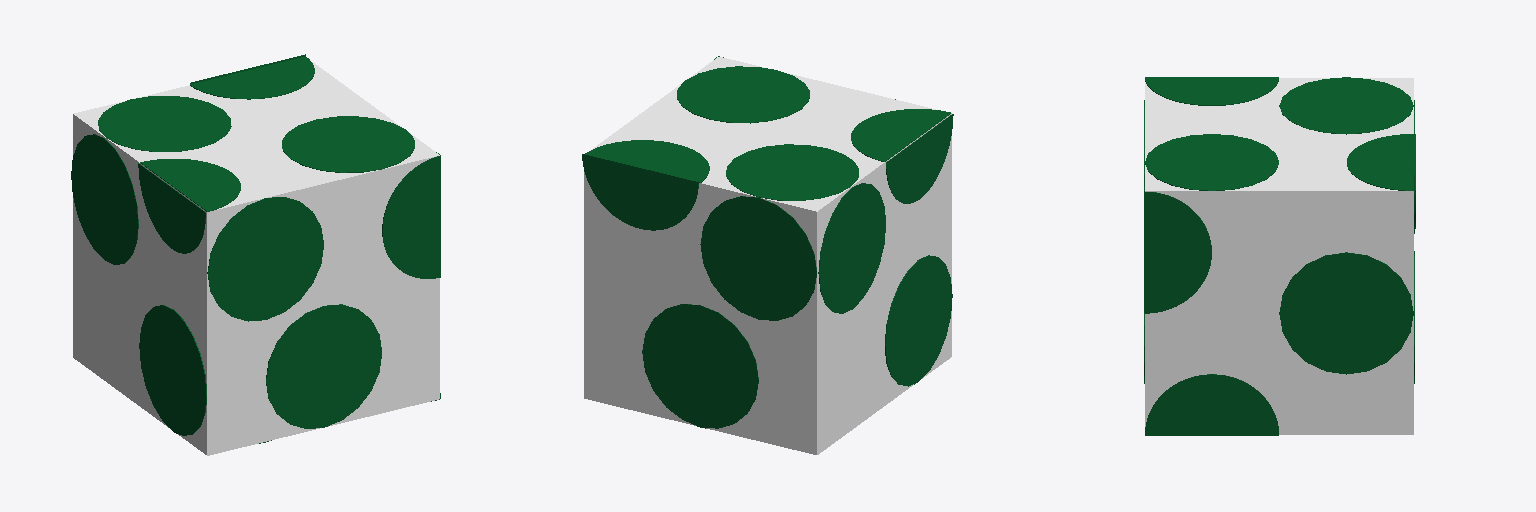
The model's file is tinker.obj.
3 renders of one model, left to right at view 1: azimuth 30°, elevation 25°; view 2: azimuth 150°, elevation 25°; view 3: azimuth 270°, elevation 25°, orthographic.
Visible parts, largest first — view 1: obj_0; view 2: obj_0; view 3: obj_0.
Part boxes in pixels (left/top/right/bottom): obj_0: left=71, top=54, right=440, bottom=455; obj_0: left=582, top=56, right=953, bottom=454; obj_0: left=1144, top=77, right=1415, bottom=435.
Bounding box in the file's own units: 4.05 × 4.04 × 4.04.